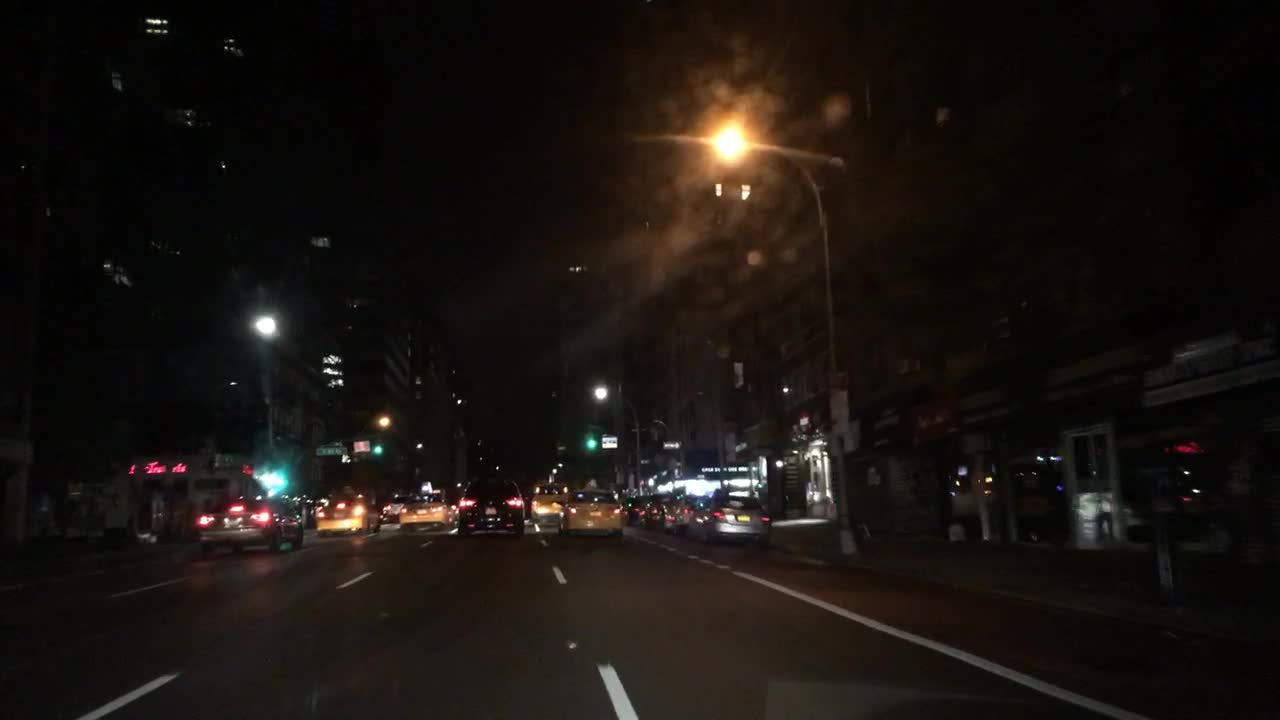car: (196, 491, 303, 556), (454, 478, 526, 535), (702, 488, 771, 543), (560, 488, 628, 538), (312, 497, 379, 538), (397, 488, 449, 532), (656, 492, 702, 535), (529, 482, 570, 522), (380, 496, 407, 523), (627, 498, 653, 523)
traffic light: (583, 427, 598, 452), (274, 464, 288, 489), (372, 435, 382, 456)
traffic sign: (829, 419, 859, 456), (830, 389, 845, 433), (823, 370, 853, 387), (315, 444, 346, 455), (602, 434, 619, 449), (663, 438, 686, 449), (351, 441, 371, 452), (637, 457, 650, 465)
